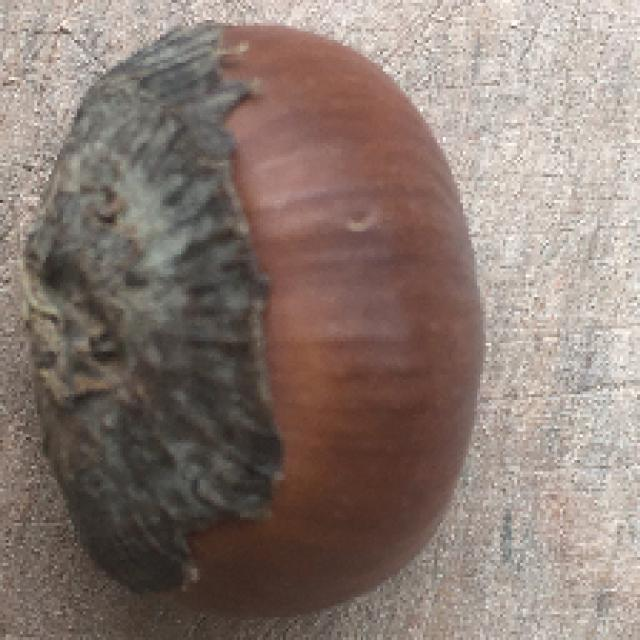damagedHazelnut: (16, 19, 488, 612)
